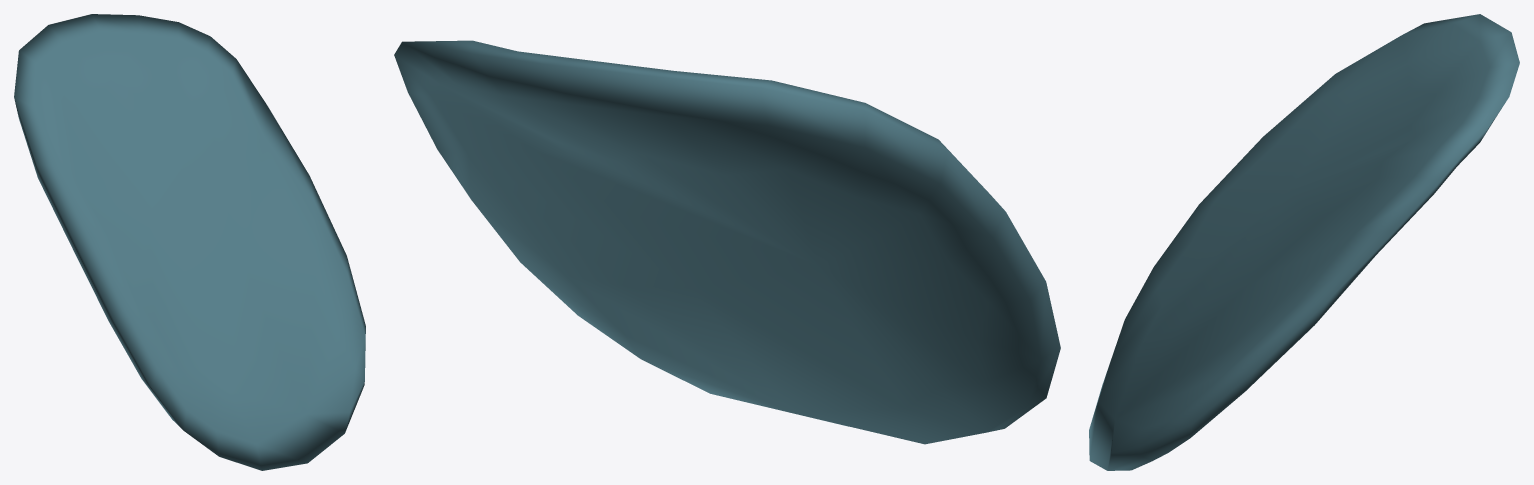
Rendered from Extensor_digitorum-middle_phalanx-4th_finger.l_Generated_Mesh_F.glb.
3 renders of one model, left to right at view 1: azimuth 30°, elevation 25°; view 2: azimuth 150°, elevation 25°; view 3: azimuth 270°, elevation 25°, orthographic. The views are drawn at different scales.
Visible parts, largest first — view 1: Extensor_digitorum-middle_phalanx-4th_finger.l_Generated_Mes; view 2: Extensor_digitorum-middle_phalanx-4th_finger.l_Generated_Mes; view 3: Extensor_digitorum-middle_phalanx-4th_finger.l_Generated_Mes.
Boxes of the visible parts, left/top/right/bottom form: Extensor_digitorum-middle_phalanx-4th_finger.l_Generated_Mes: left=14, top=14, right=365, bottom=470; Extensor_digitorum-middle_phalanx-4th_finger.l_Generated_Mes: left=394, top=40, right=1060, bottom=444; Extensor_digitorum-middle_phalanx-4th_finger.l_Generated_Mes: left=1089, top=14, right=1519, bottom=470.
Bounding box in the file's own units: 0.00431 × 0.00498 × 0.00508.
